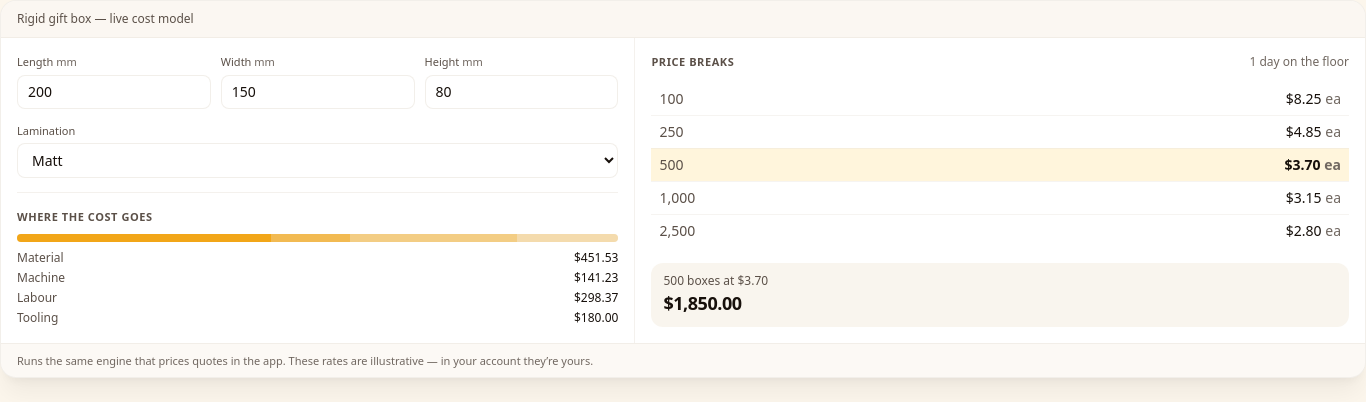
Test: LiveQuoteDemo › recovers once the dimensions are workable again
Replace the text in the number field labelled "Length mm" with "600" at [114, 92], box [17,74,211,108]
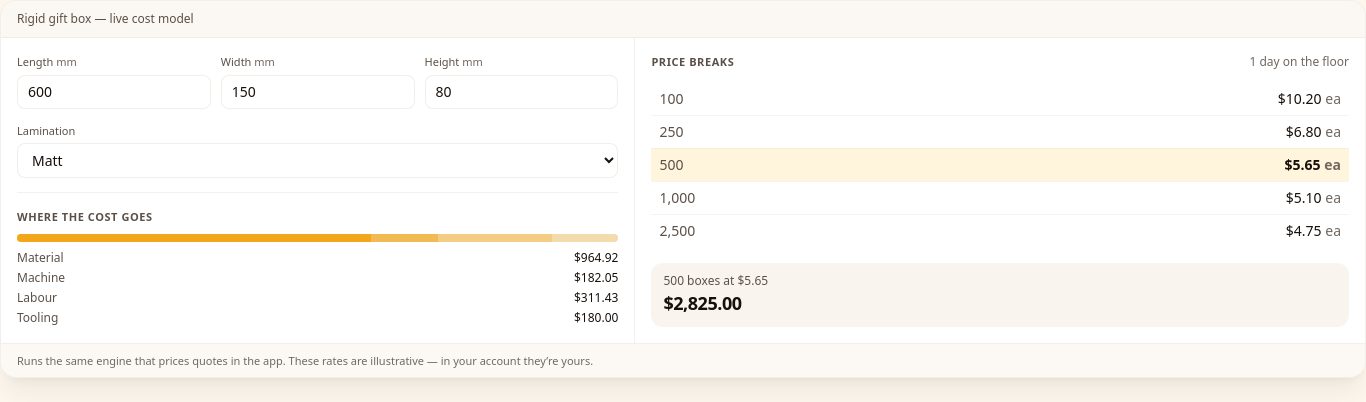
Replace the text in the number field labelled "Width mm" with "600" at [318, 92], box [221,74,415,108]
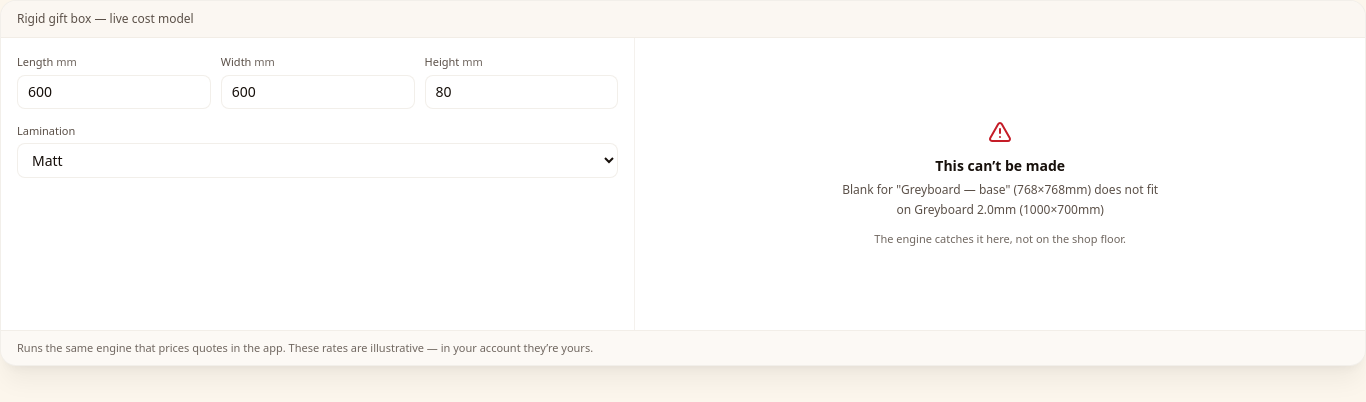
Now the text "This can’t be made" is shown, box [935,156,1065,175]
Replace the text in the number field labelled "Width mm" with "150" at [318, 92], box [221,74,415,108]
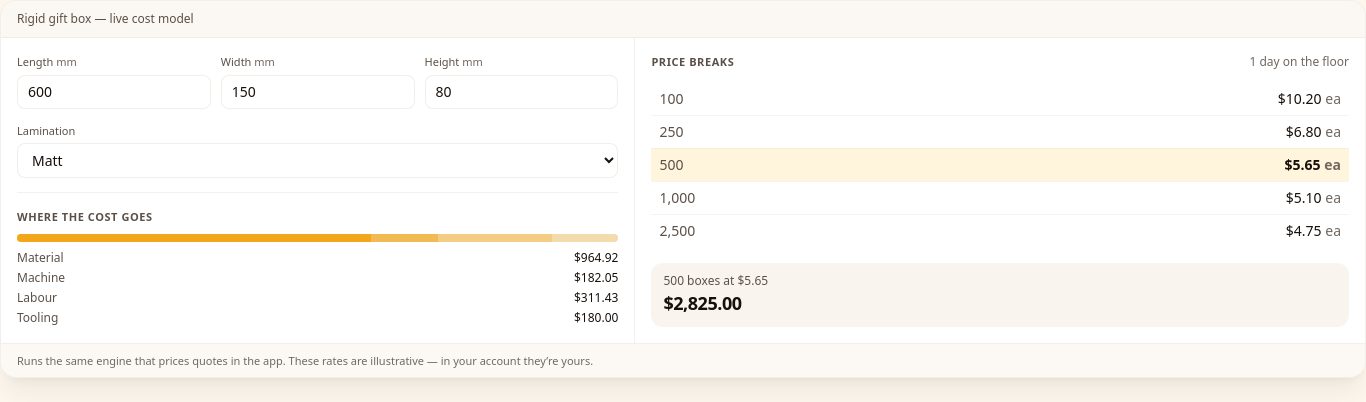
Now the text "Price breaks" is shown, box [651,54,734,70]
